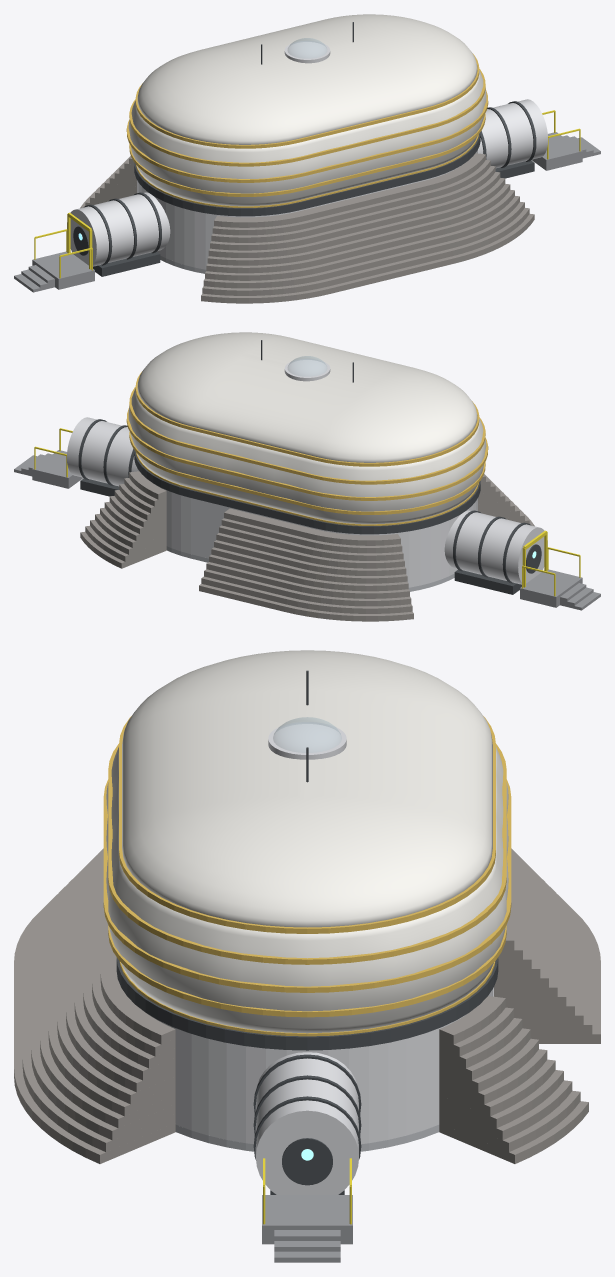
The model's file is habitat_base_color.glb.
The picture shows the model from 3 angles, top to bottom: view 1: azimuth 30°, elevation 25°; view 2: azimuth 150°, elevation 25°; view 3: azimuth 270°, elevation 25°; orthographic projection. The views are drawn at different scales.
Visible parts, largest first — view 1: L2_Inflatable_Roof, L2_Inflatable_Softgoods_Shell, Airlock_Crew_EVA_Module, Airlock_Equipment_Module, Regolith_Print_Layer_2_10, Interface_Ring_Beam, L1_Rigid_Metal_Shell, Regolith_Print_Layer_2_00, Regolith_Print_Layer_2_01, Regolith_Print_Layer_2_02, Regolith_Print_Layer_2_03, Regolith_Print_Layer_2_04 (+16 smaller); view 2: L2_Inflatable_Roof, L2_Inflatable_Softgoods_Shell, L1_Rigid_Metal_Shell, Airlock_Crew_EVA_Module, Airlock_Equipment_Module, Interface_Ring_Beam, Regolith_Print_Layer_1_10, L2_Restraint_Strap_75, L2_Restraint_Strap_50, Regolith_Print_Layer_1_00, Regolith_Print_Layer_1_01, Regolith_Print_Layer_1_02 (+28 smaller); view 3: L2_Inflatable_Roof, L2_Inflatable_Softgoods_Shell, L1_Rigid_Metal_Shell, Airlock_Equipment_Module, Interface_Ring_Beam, L2_Restraint_Strap_75, L2_Restraint_Strap_50, L2_Restraint_Strap_100, Regolith_Print_Layer_2_00, Regolith_Print_Layer_2_01, Regolith_Print_Layer_2_02, Airlock_Equipment_Porch (+36 smaller).
Part boxes in pixels (left/top/right/bottom): L2_Inflatable_Roof: left=137, top=14, right=477, bottom=144; L2_Inflatable_Softgoods_Shell: left=128, top=70, right=486, bottom=206; Airlock_Crew_EVA_Module: left=67, top=192, right=170, bottom=266; Airlock_Equipment_Module: left=478, top=99, right=547, bottom=168; Regolith_Print_Layer_2_10: left=214, top=153, right=485, bottom=227; Interface_Ring_Beam: left=134, top=132, right=480, bottom=216; L1_Rigid_Metal_Shell: left=137, top=150, right=477, bottom=269; Regolith_Print_Layer_2_00: left=201, top=214, right=534, bottom=303; Regolith_Print_Layer_2_01: left=202, top=208, right=529, bottom=295; Regolith_Print_Layer_2_02: left=203, top=202, right=524, bottom=288; Regolith_Print_Layer_2_03: left=205, top=196, right=519, bottom=280; Regolith_Print_Layer_2_04: left=206, top=190, right=514, bottom=273; L2_Inflatable_Roof: left=137, top=332, right=477, bottom=462; L2_Inflatable_Softgoods_Shell: left=128, top=388, right=486, bottom=524; L1_Rigid_Metal_Shell: left=137, top=468, right=477, bottom=587; Airlock_Crew_EVA_Module: left=444, top=510, right=547, bottom=584; Airlock_Equipment_Module: left=67, top=417, right=136, bottom=486; Interface_Ring_Beam: left=134, top=450, right=480, bottom=534; Regolith_Print_Layer_1_10: left=224, top=508, right=400, bottom=545; L2_Restraint_Strap_75: left=129, top=387, right=485, bottom=484; L2_Restraint_Strap_50: left=126, top=407, right=488, bottom=500; Regolith_Print_Layer_1_00: left=199, top=584, right=413, bottom=621; Regolith_Print_Layer_1_01: left=201, top=576, right=412, bottom=613; Regolith_Print_Layer_1_02: left=204, top=569, right=411, bottom=606; L2_Inflatable_Roof: left=122, top=650, right=492, bottom=927; L2_Inflatable_Softgoods_Shell: left=106, top=747, right=508, bottom=1033; L1_Rigid_Metal_Shell: left=148, top=988, right=493, bottom=1144; Airlock_Equipment_Module: left=255, top=1052, right=358, bottom=1194; Interface_Ring_Beam: left=116, top=957, right=498, bottom=1050; L2_Restraint_Strap_75: left=108, top=744, right=506, bottom=964; L2_Restraint_Strap_50: left=103, top=779, right=511, bottom=992; L2_Restraint_Strap_100: left=119, top=716, right=495, bottom=933; Regolith_Print_Layer_2_00: left=14, top=912, right=175, bottom=1163; Regolith_Print_Layer_2_01: left=22, top=903, right=175, bottom=1152; Regolith_Print_Layer_2_02: left=31, top=895, right=175, bottom=1140; Airlock_Equipment_Porch: left=262, top=1195, right=352, bottom=1244.
Bounding box in the file's own units: 27.3 × 8.4 × 14.2.
